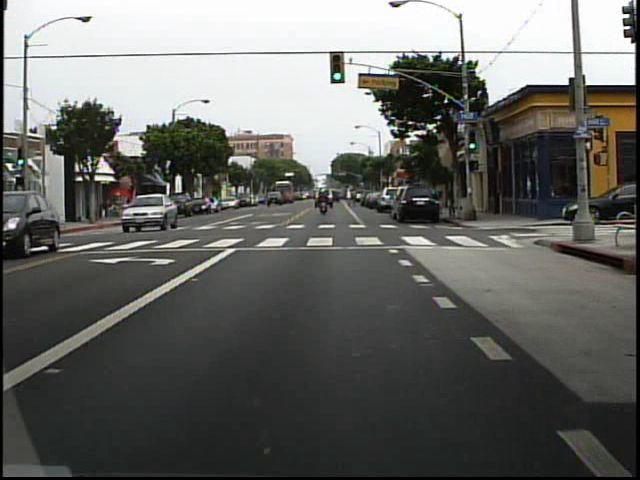person: (316, 188, 329, 216)
